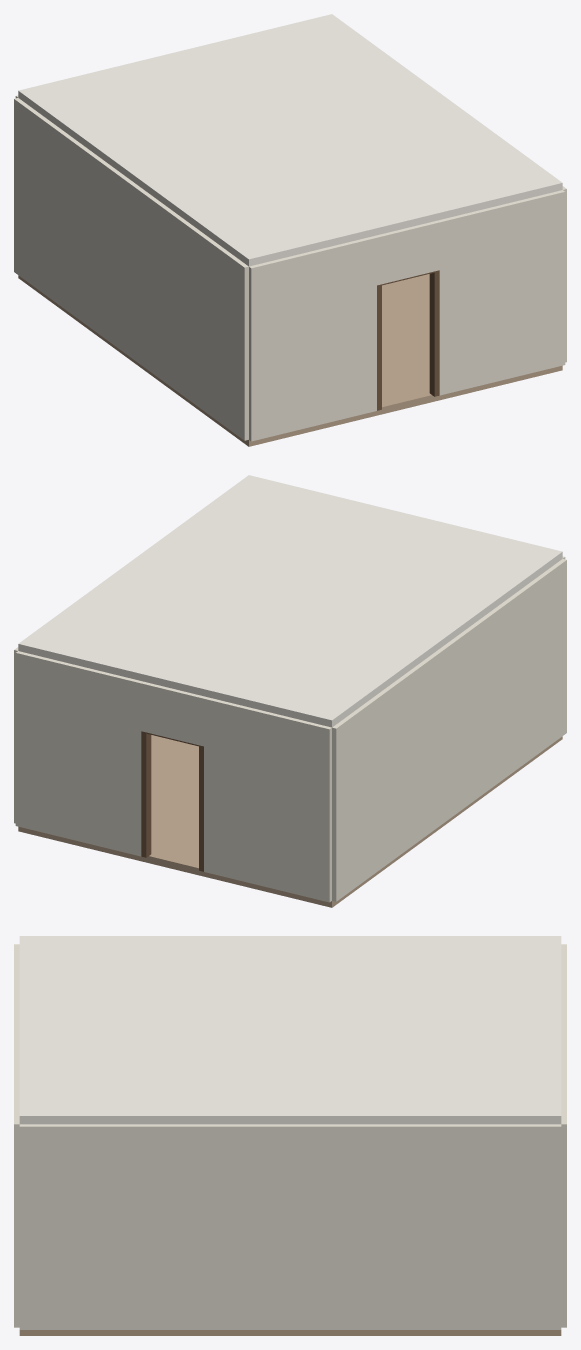
The model's file is Shell_study.fbx.
The picture shows the model from 3 angles, top to bottom: view 1: azimuth 30°, elevation 25°; view 2: azimuth 150°, elevation 25°; view 3: azimuth 270°, elevation 25°; orthographic projection. The views are drawn at different scales.
Visible parts, largest first — view 1: Shell_study; view 2: Shell_study; view 3: Shell_study.
Boxes of the visible parts, x1,y1,x2,y2 form: Shell_study: [14, 14, 566, 446]; Shell_study: [14, 475, 566, 907]; Shell_study: [14, 936, 566, 1335].
Bounding box in the file's own units: 5.65 × 3.14 × 7.15.
